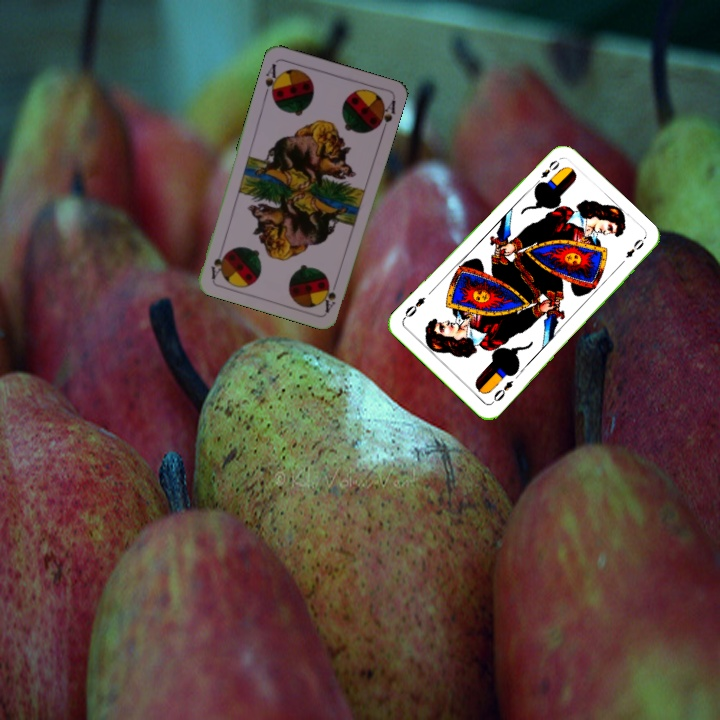EO: (530, 156, 562, 188), (487, 376, 516, 407)
SA: (260, 59, 283, 101), (319, 275, 340, 315)
